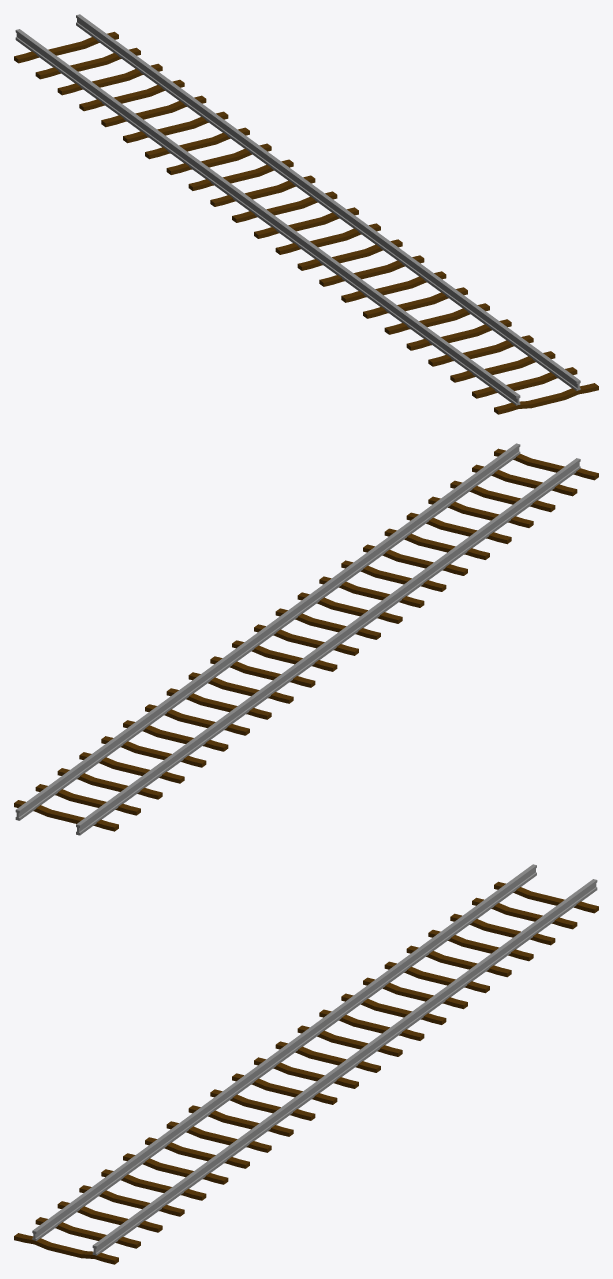
Rendered from rails.fbx.
3 renders of one model, top to bottom at view 1: azimuth 30°, elevation 25°; view 2: azimuth 150°, elevation 25°; view 3: azimuth 330°, elevation 25°, orthographic.
Parts seen in each view (by area): view 1: Cube, Cube.002; view 2: Cube, Cube.002; view 3: Cube, Cube.002.
Part boxes in pixels (<box>): Cube: <box>14,31,598,414</box>; Cube.002: <box>15,14,580,405</box>; Cube: <box>14,448,598,831</box>; Cube.002: <box>15,443,580,835</box>; Cube: <box>14,881,598,1264</box>; Cube.002: <box>32,864,597,1255</box>.
Size of the model in its own units: 3444 by 400 by 58.43.
